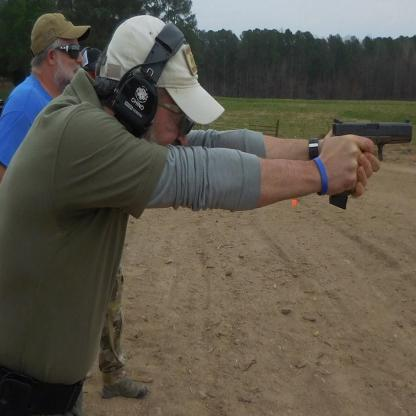gun: (328, 118, 413, 210)
